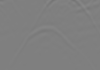hyperbola: (14, 23, 83, 61)
